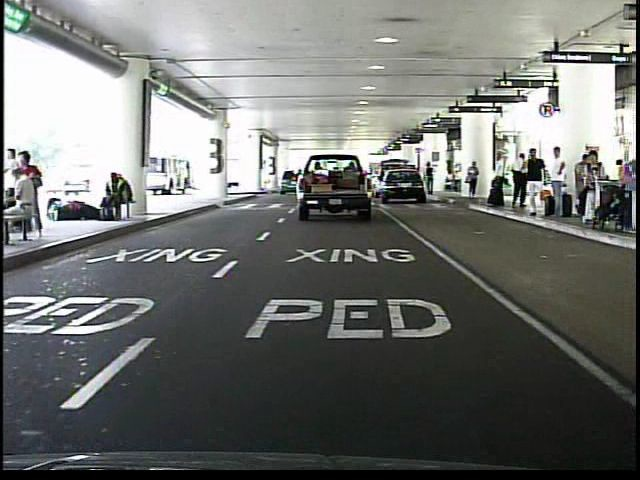person: (547, 144, 572, 226), (523, 147, 549, 223), (486, 150, 510, 214), (464, 161, 480, 203), (423, 160, 436, 197)
